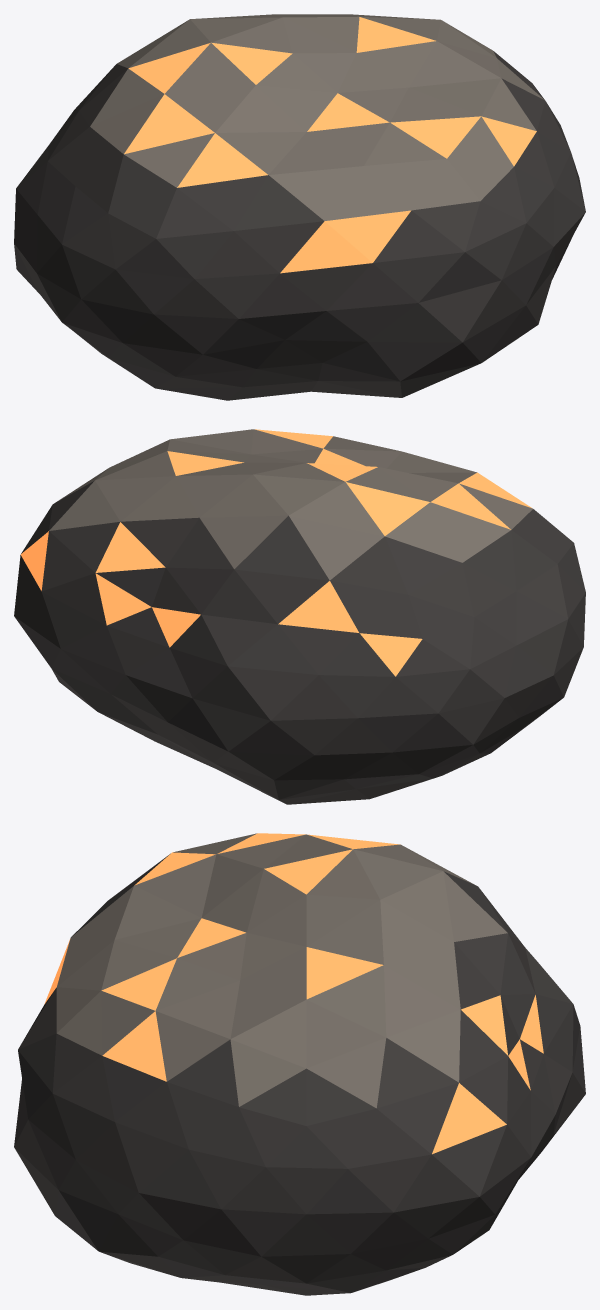
The model's file is cooled-lava-chunk.glb.
3 renders of one model, top to bottom at view 1: azimuth 30°, elevation 25°; view 2: azimuth 150°, elevation 25°; view 3: azimuth 270°, elevation 25°, orthographic. The views are drawn at different scales.
Parts seen in each view (by area): view 1: cooled-lava-chunk; view 2: cooled-lava-chunk; view 3: cooled-lava-chunk.
Boxes of the visible parts, bbox=[...] form: cooled-lava-chunk: bbox=[14, 14, 585, 400]; cooled-lava-chunk: bbox=[14, 429, 585, 804]; cooled-lava-chunk: bbox=[14, 833, 585, 1295].
Size of the model in its own units: 1.27 by 0.7663 by 1.08.
